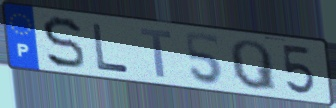5: (183, 29, 226, 88), (280, 42, 318, 96)
L: (89, 21, 131, 75)
Q: (228, 38, 280, 94)
S: (39, 14, 87, 71)
T: (138, 26, 175, 80)
